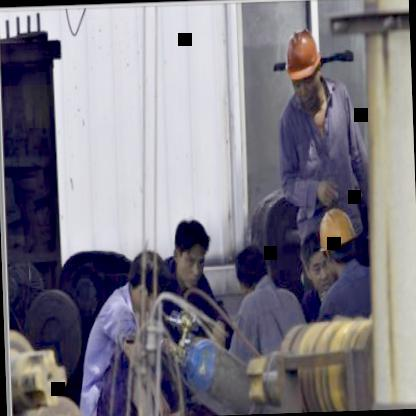head: (122, 244, 171, 314), (171, 214, 214, 290), (230, 239, 272, 304), (296, 234, 332, 290)
helmet: (283, 23, 325, 110), (316, 208, 360, 275)
